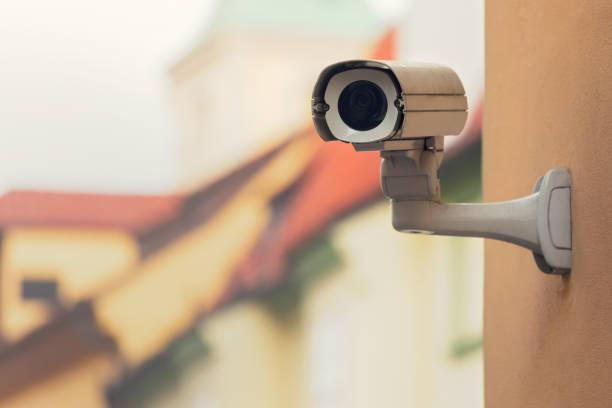camera: (266, 24, 487, 186)
